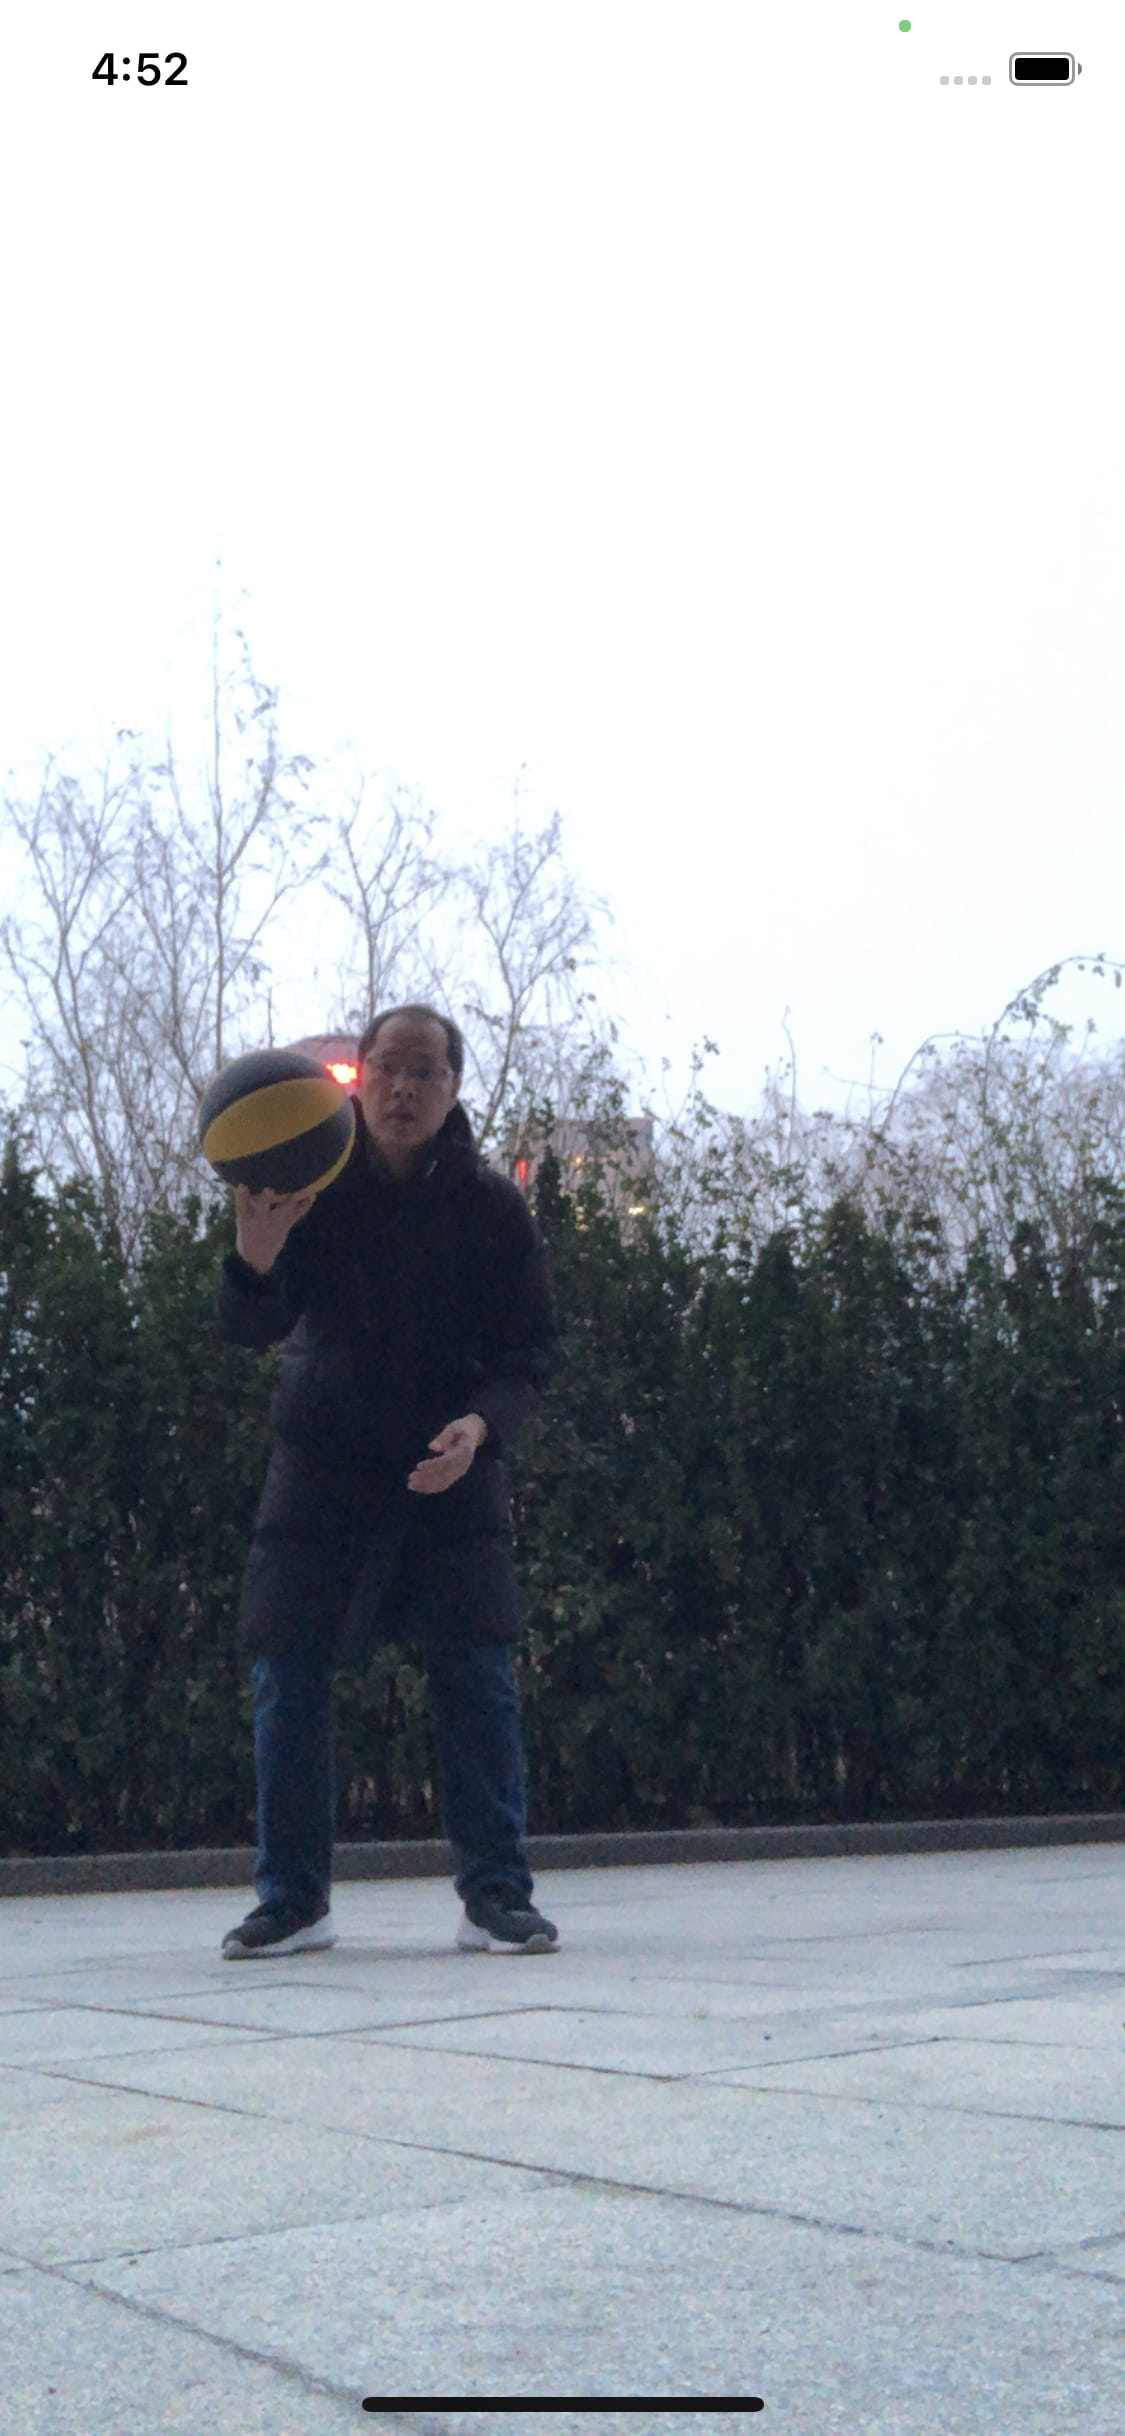ball: (196, 1046, 359, 1202)
